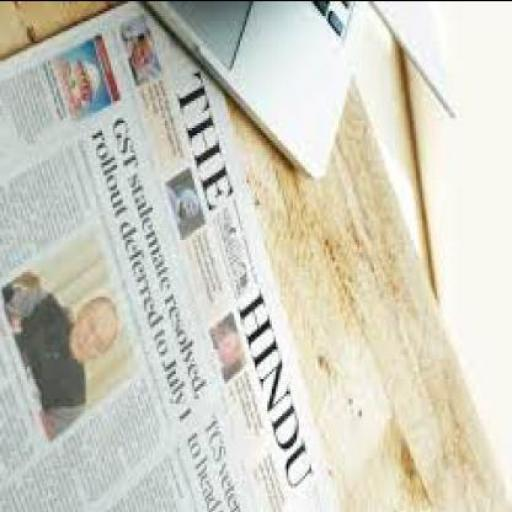paper: (1, 1, 341, 510)
